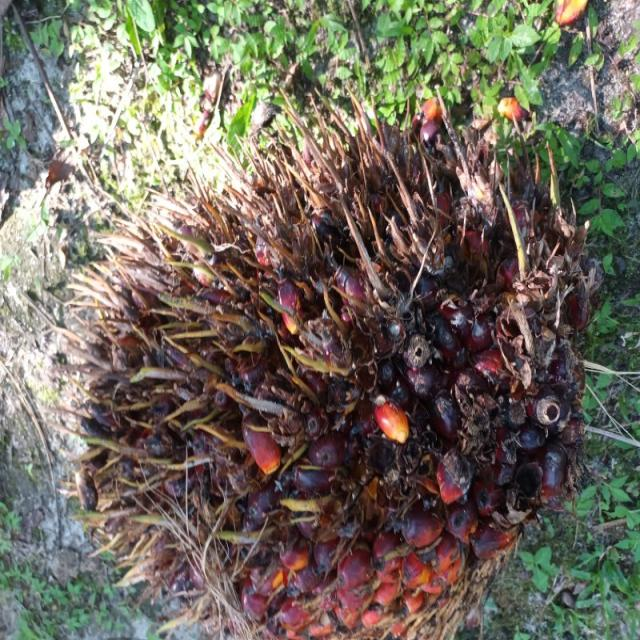fraksi 1: (57, 119, 596, 622)
